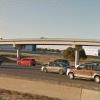Bridge: (4, 25, 93, 57)
